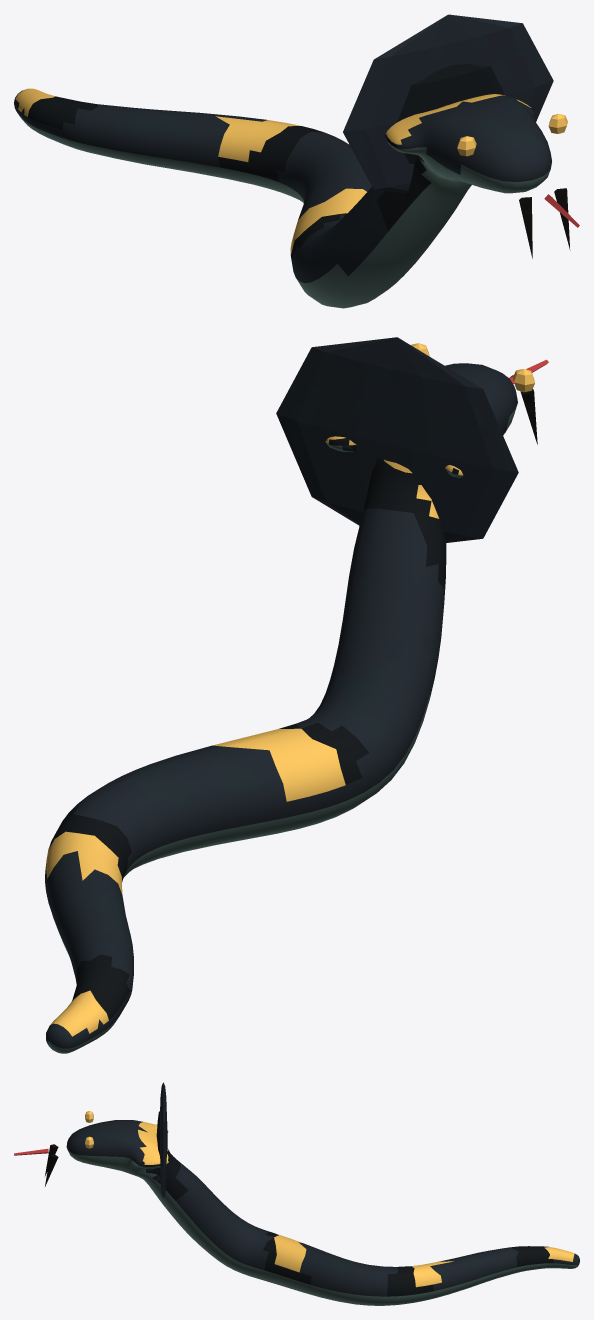
File: mon_sp_abyss_angler.glb
3 views of the same model, one above another, from view 1: azimuth 30°, elevation 25°; view 2: azimuth 150°, elevation 25°; view 3: azimuth 270°, elevation 25° (orthographic). The views are drawn at different scales.
Visible parts, largest first — view 1: mon_sp_abyss_angler; view 2: mon_sp_abyss_angler; view 3: mon_sp_abyss_angler.
Part boxes in pixels (x1,y1,x2,y2): mon_sp_abyss_angler: (14, 14, 579, 308); mon_sp_abyss_angler: (45, 337, 548, 1053); mon_sp_abyss_angler: (14, 1082, 579, 1305).
Bounding box in the file's own units: 1.17 × 1.84 × 4.73.
Materials: 7 (7 with a texture image).
